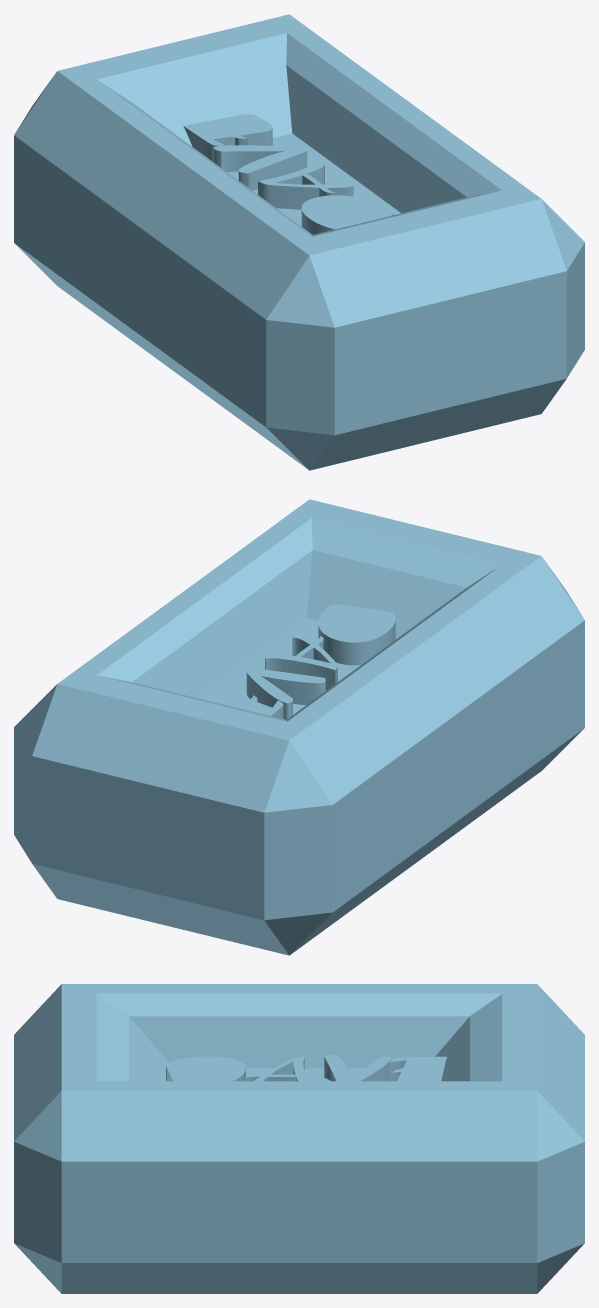
File: SOAP 4.fbx
3 renders of one model, top to bottom at view 1: azimuth 30°, elevation 25°; view 2: azimuth 150°, elevation 25°; view 3: azimuth 270°, elevation 25°, orthographic. The views are drawn at different scales.
Parts seen in each view (by area): view 1: typeMesh3; view 2: typeMesh3; view 3: typeMesh3.
Part boxes in pixels (x1=…): typeMesh3: x1=14, y1=14, x2=584, y2=470; typeMesh3: x1=14, y1=499, x2=584, y2=955; typeMesh3: x1=14, y1=984, x2=584, y2=1293.
Bounding box in the file's own units: 2.1 × 1.36 × 3.46.
1 material, 1 textured.
